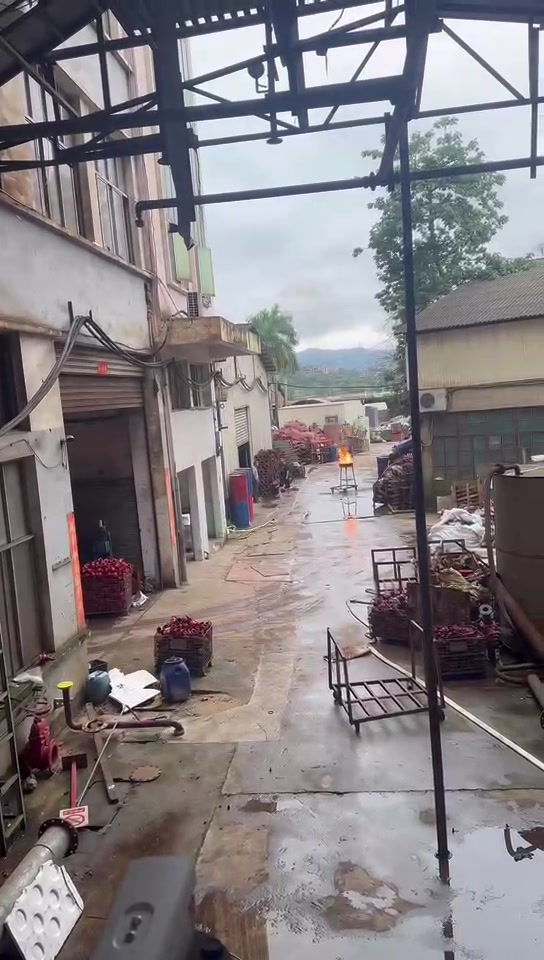fire: (337, 447, 352, 463)
